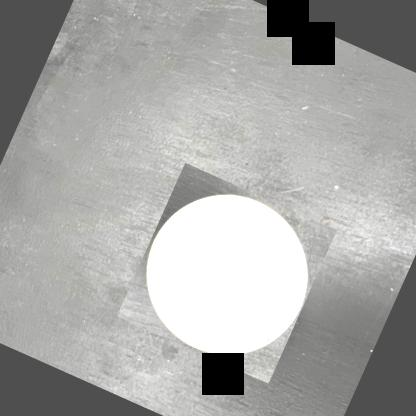white cylinder: (116, 162, 336, 384)
